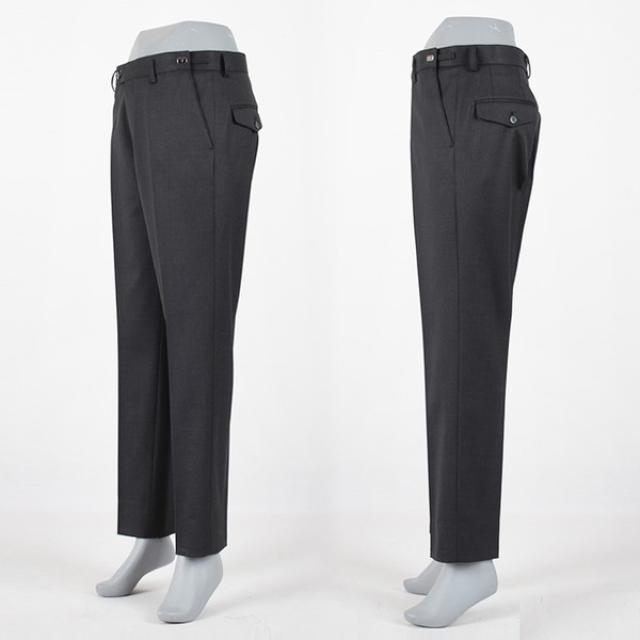pants: (99, 47, 265, 557), (406, 41, 545, 562)
